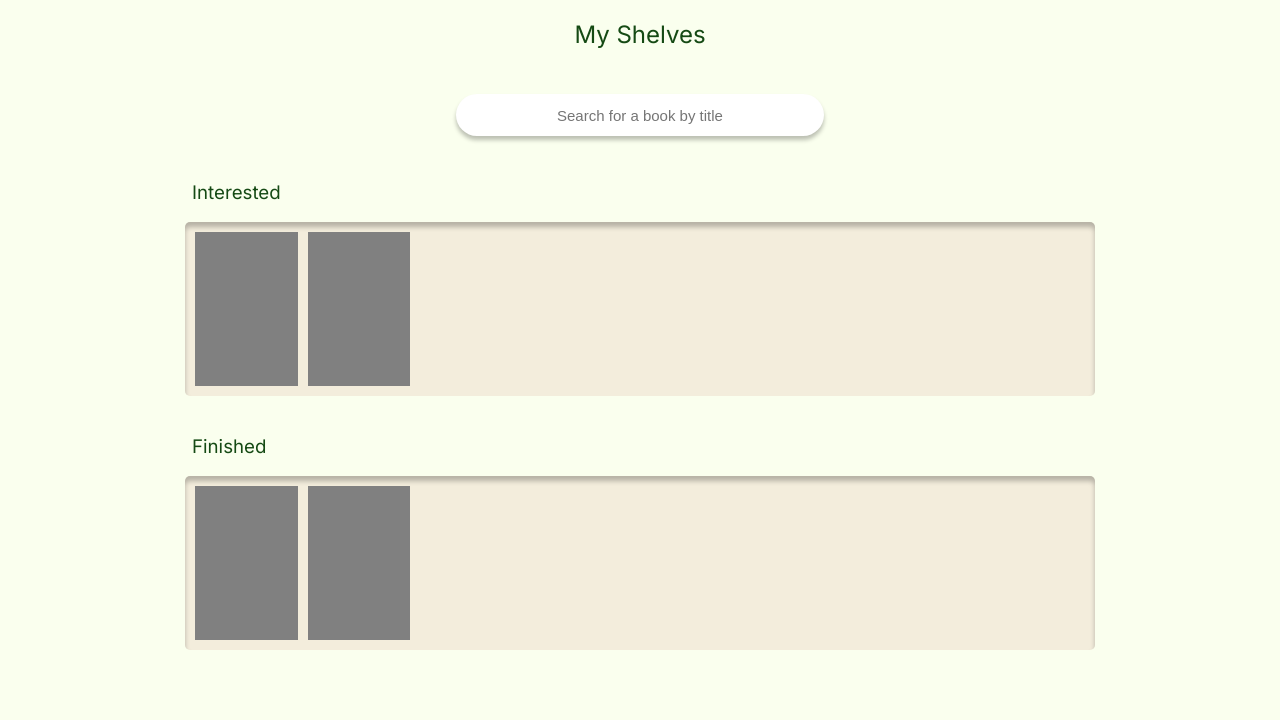
Test case: Searching book from backend book API › displays books fetched from the backend
Type "Book" into the field with placeholder "Search for a book by title" at [640, 115], box [456, 94, 824, 136]
Then press Enter
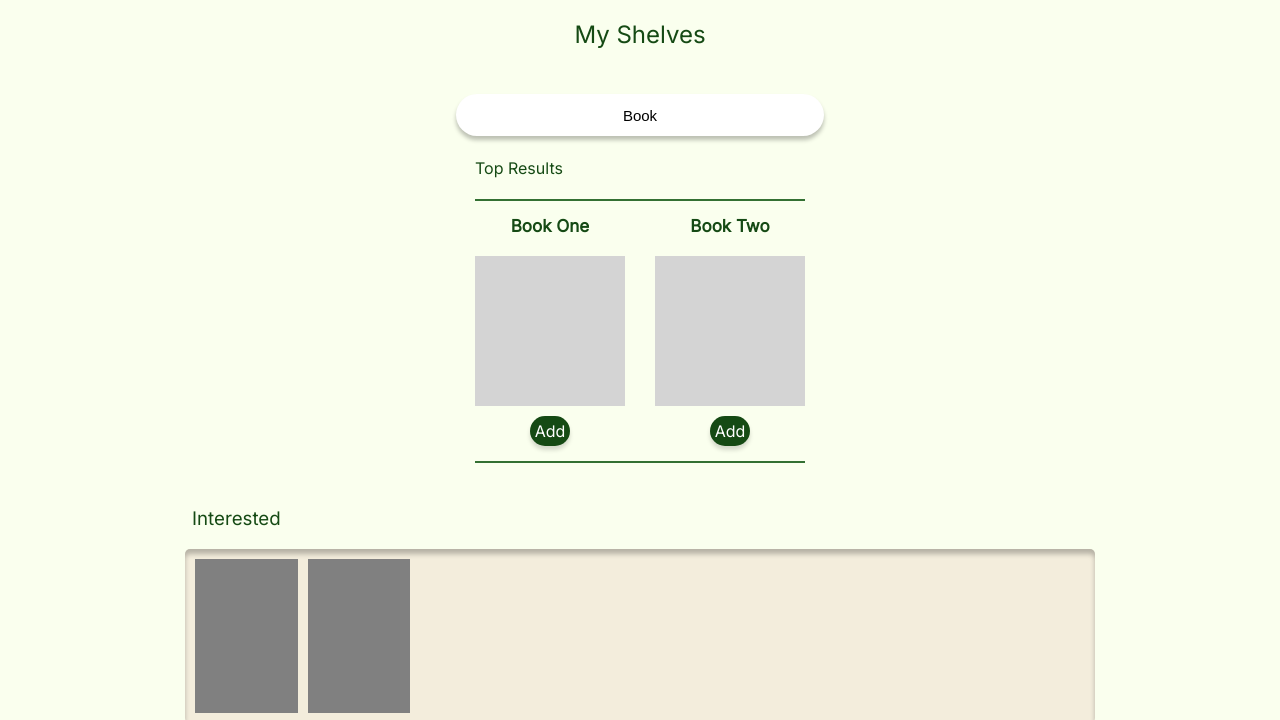
Result: the text "Book One" is shown 2 times at [511, 216, 589, 236]; [690, 216, 770, 236]
Result: the text "Book One" is shown at [511, 216, 589, 236]
Result: the text "Book Two" is shown at [690, 216, 770, 236]
